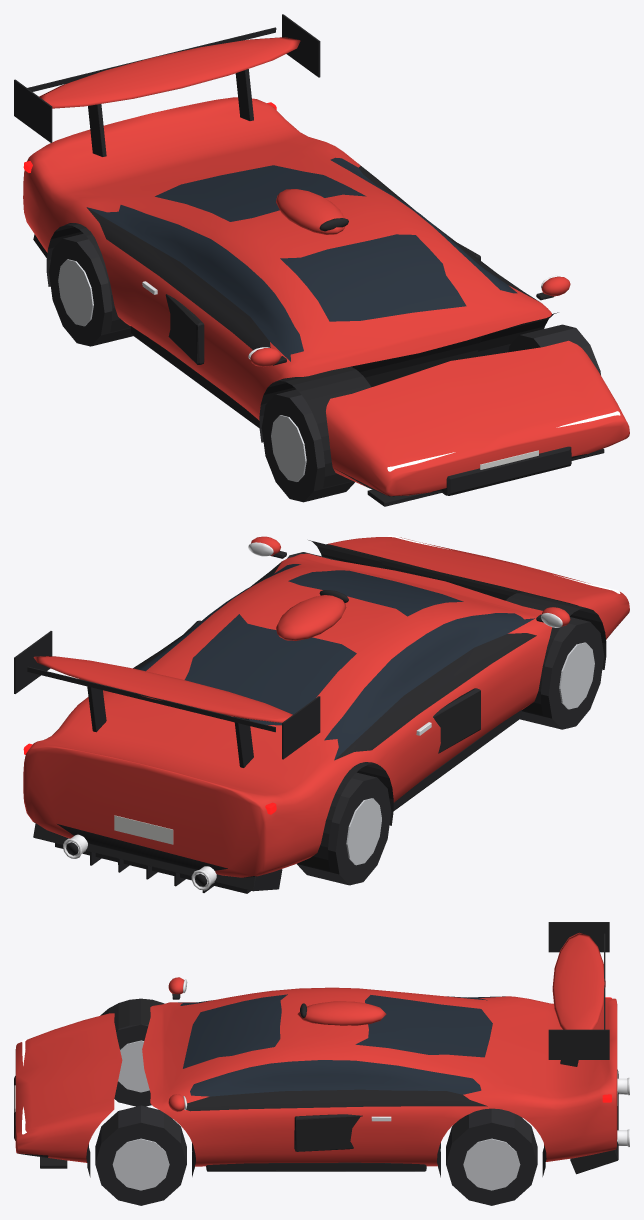
The model's file is phantom_lod.glb.
The picture shows the model from 3 angles, top to bottom: view 1: azimuth 30°, elevation 25°; view 2: azimuth 150°, elevation 25°; view 3: azimuth 270°, elevation 25°; orthographic projection. The views are drawn at different scales.
Parts seen in each view (by area): view 1: body, wheel_fr, wheel_rr, wheel_fl; view 2: body, wheel_rr, wheel_fr; view 3: body, wheel_fl, wheel_rl, wheel_fr.
Part boxes in pixels (x1=…): body: x1=14, y1=14, x2=629, y2=506; wheel_fr: x1=261, y1=389, x2=354, y2=502; wheel_rr: x1=49, y1=233, x2=132, y2=346; wheel_fl: x1=508, y1=324, x2=600, y2=374; body: x1=14, y1=535, x2=629, y2=893; wheel_rr: x1=297, y1=772, x2=391, y2=885; wheel_fr: x1=520, y1=617, x2=604, y2=729; body: x1=14, y1=922, x2=629, y2=1177; wheel_fl: x1=95, y1=1105, x2=186, y2=1205; wheel_rl: x1=446, y1=1108, x2=537, y2=1205; wheel_fr: x1=114, y1=1024, x2=151, y2=1106.
Size of the model in its own units: 2.37 by 1.49 by 4.83.
